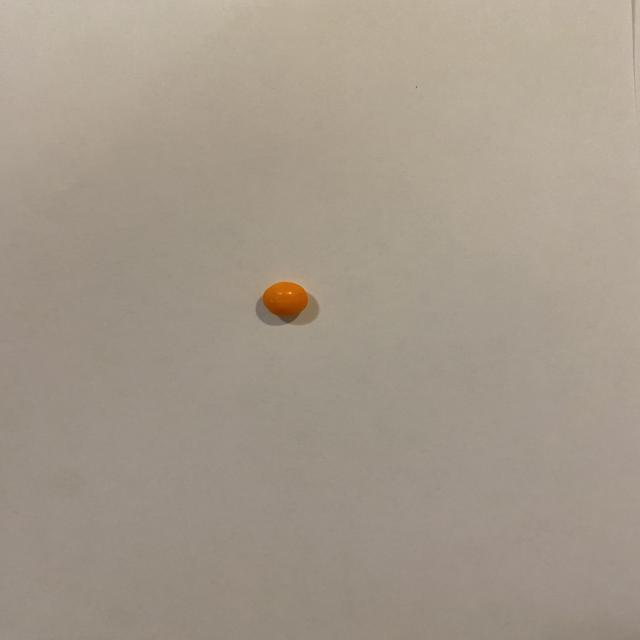smartie: (262, 282, 308, 316)
